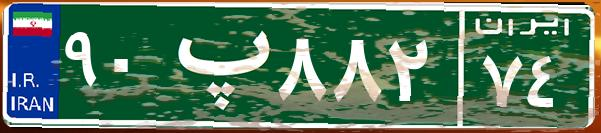0: (110, 28, 158, 105)
2: (385, 28, 445, 110)
4: (525, 38, 570, 115)
7: (475, 38, 525, 113)
8: (273, 28, 330, 110), (330, 28, 385, 110)
9: (57, 26, 110, 107)
پ: (158, 15, 273, 115)
